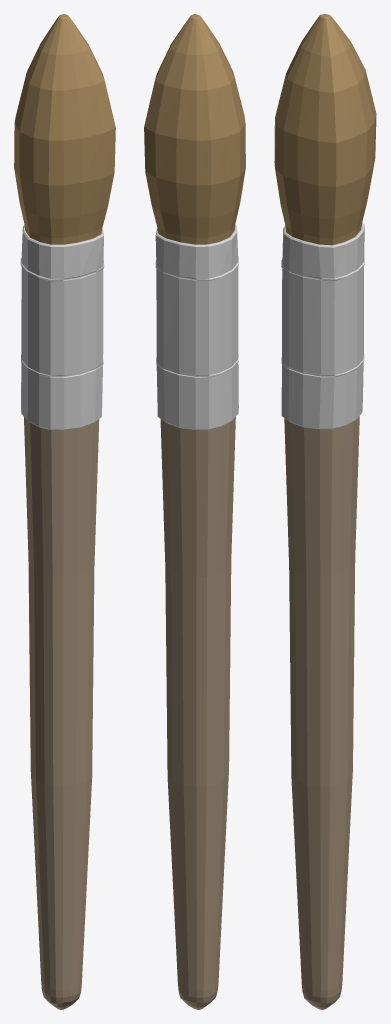
The model's file is paintbrush.fbx.
The picture shows the model from 3 angles, left to right: view 1: azimuth 30°, elevation 25°; view 2: azimuth 150°, elevation 25°; view 3: azimuth 330°, elevation 25°; orthographic projection.
Parts seen in each view (by area): view 1: Multiverse_Academy_platform_models:paint_brush_model; view 2: Multiverse_Academy_platform_models:paint_brush_model; view 3: Multiverse_Academy_platform_models:paint_brush_model.
Boxes of the visible parts, x1=… form: Multiverse_Academy_platform_models:paint_brush_model: x1=14, y1=14, x2=115, y2=1009; Multiverse_Academy_platform_models:paint_brush_model: x1=144, y1=14, x2=245, y2=1009; Multiverse_Academy_platform_models:paint_brush_model: x1=274, y1=14, x2=376, y2=1009.
Size of the model in its own units: 3.74 by 40.93 by 3.46.
